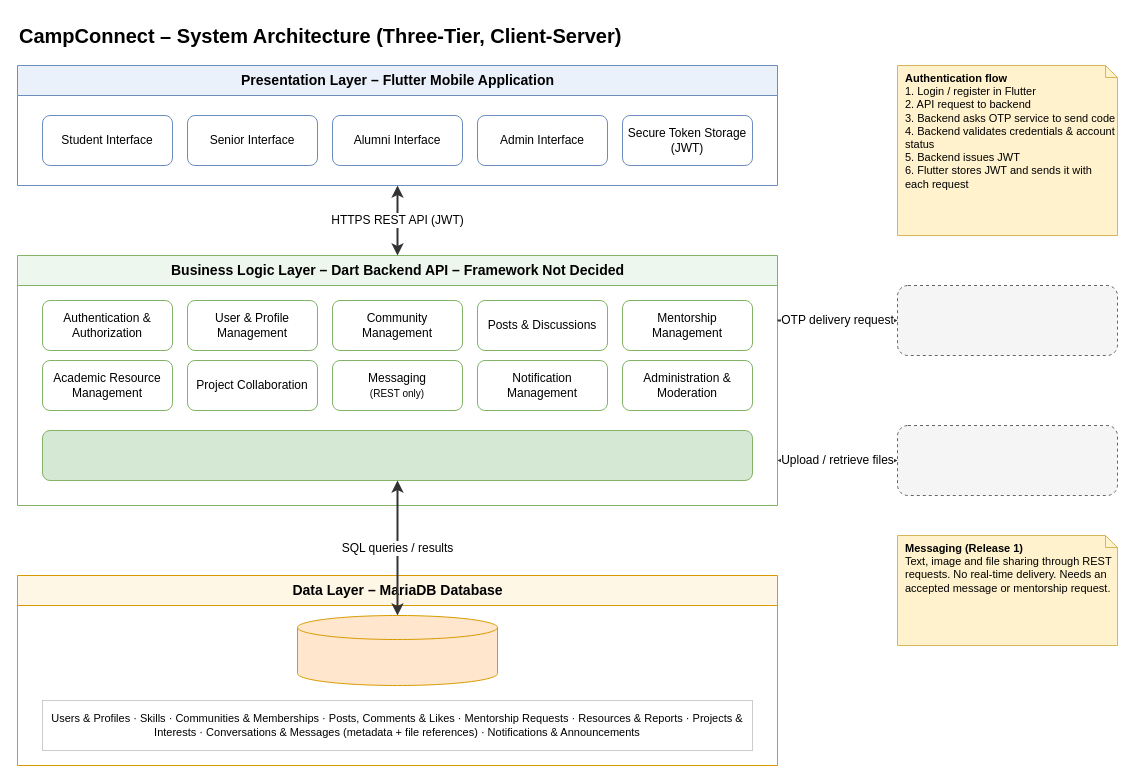
Image size: 1135x783. Some labels were removed from this diagram. Each missing label, with the centre of its shape:
"Data Access Layer" goes at (397,455).
"Email OTP Service (provider not decided)" goes at (1007,320).
"File Storage (provider not decided)" goes at (1007,460).
"MariaDB" goes at (397,650).
